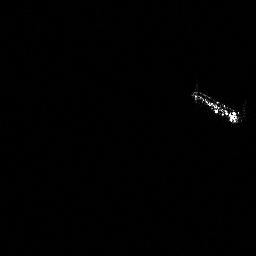ship: (188, 86, 244, 125)
